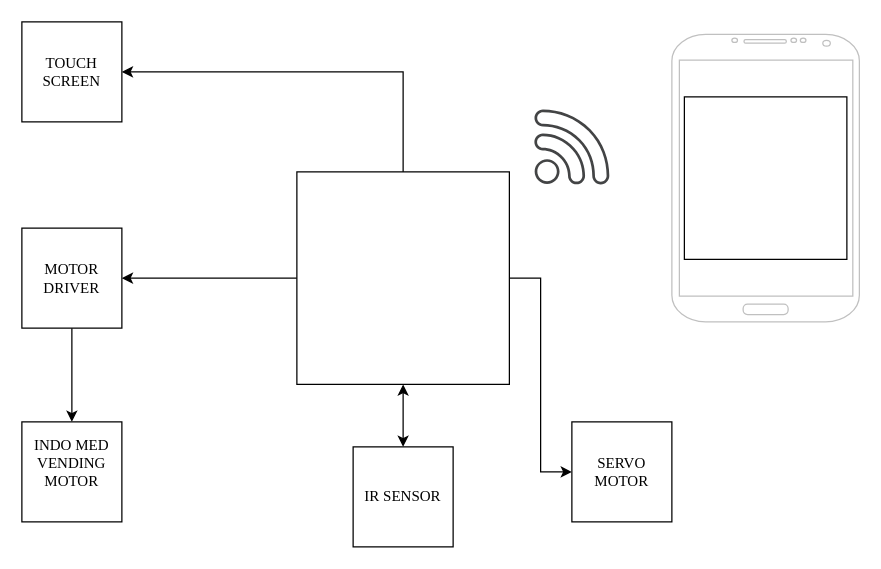
The diagram is 881 pixels wide and 569 high, and some of its shapes have lost their labels. Each missing label, with the centre of its shape:
ESP32 Devkit: the point at 402,277
MOBILE APP: the point at 765,177
